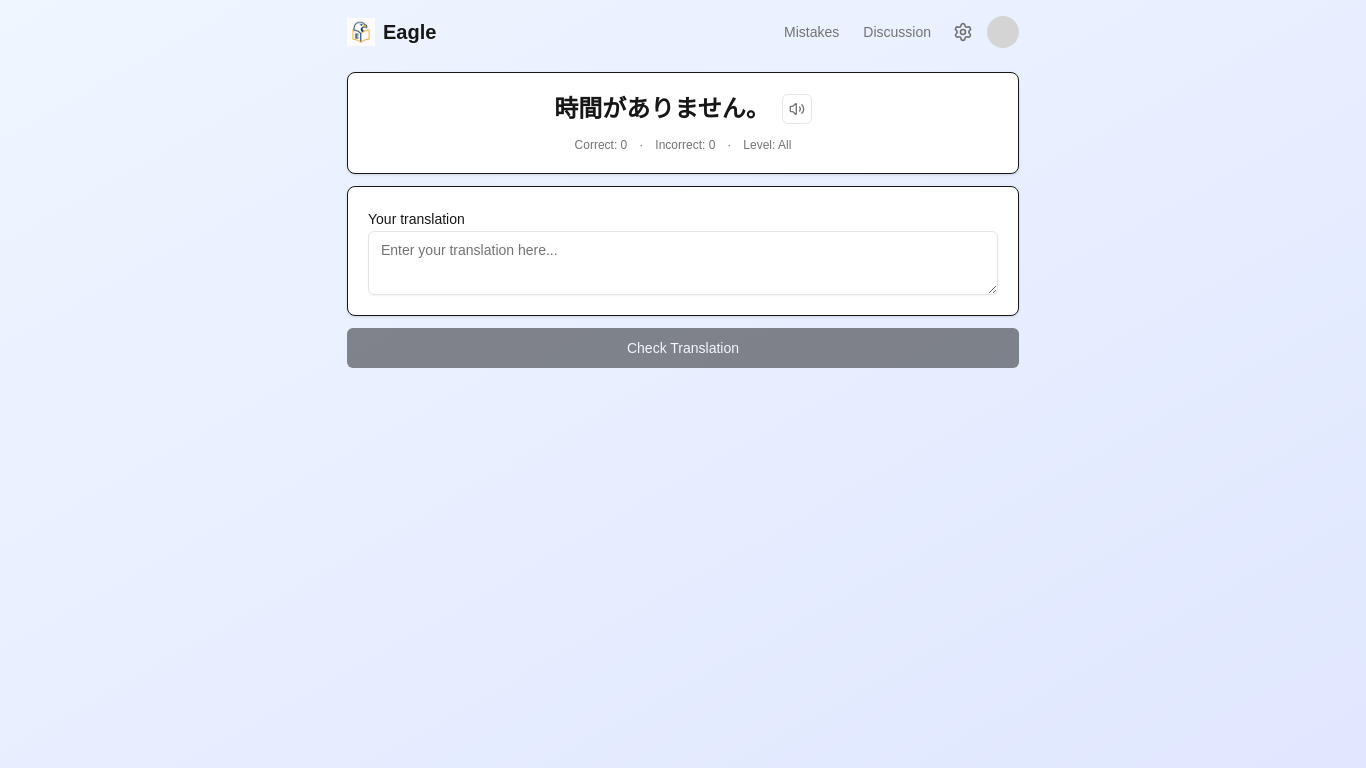
Scenario: settings › narrows the filter, refetches, persists and updates the summary
The width and height of the screenshot is (1366, 768).
Expected: the text "時間がありません。" is shown, [554, 93, 770, 125]
Step 1. Click the button named "Settings" → (963, 32), box [947, 16, 979, 48]
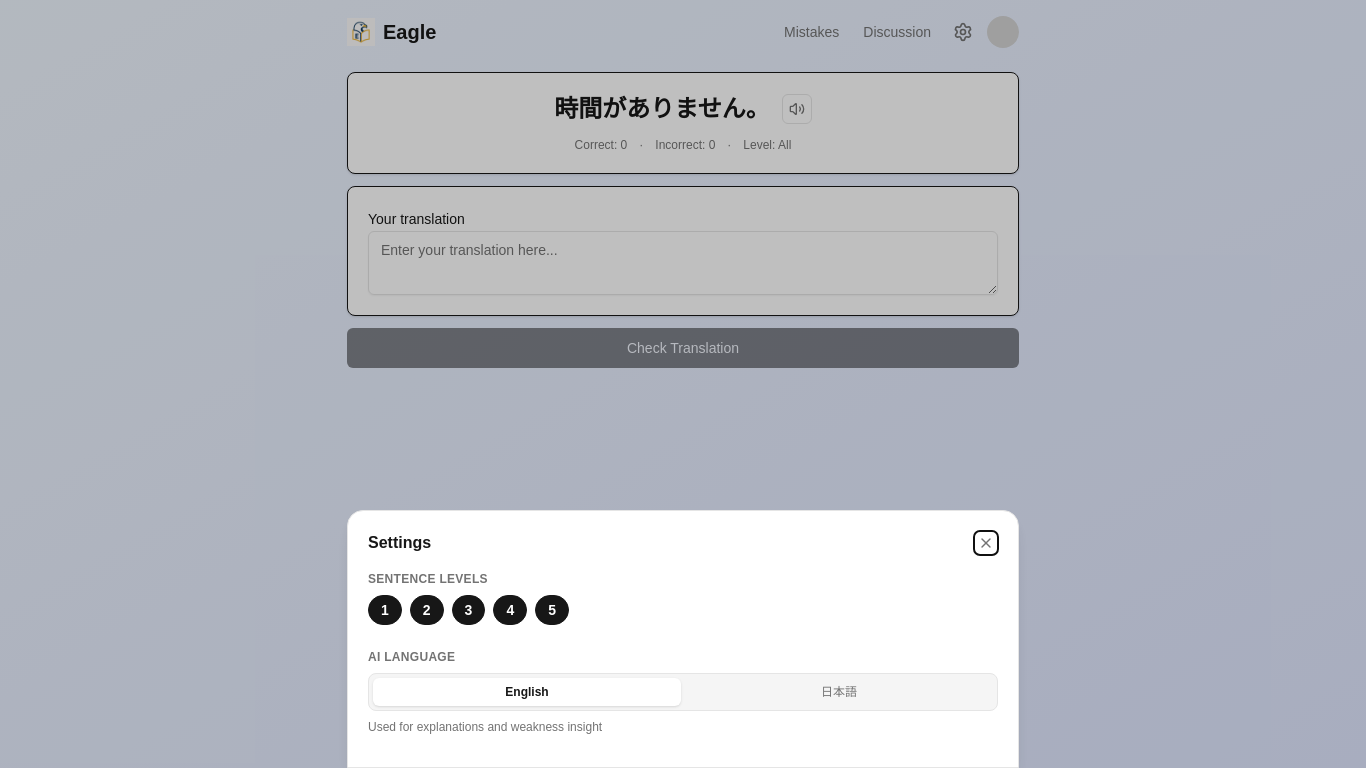
Step 2. Click the checkbox named "Level 5" → (552, 610), box [535, 595, 569, 625]
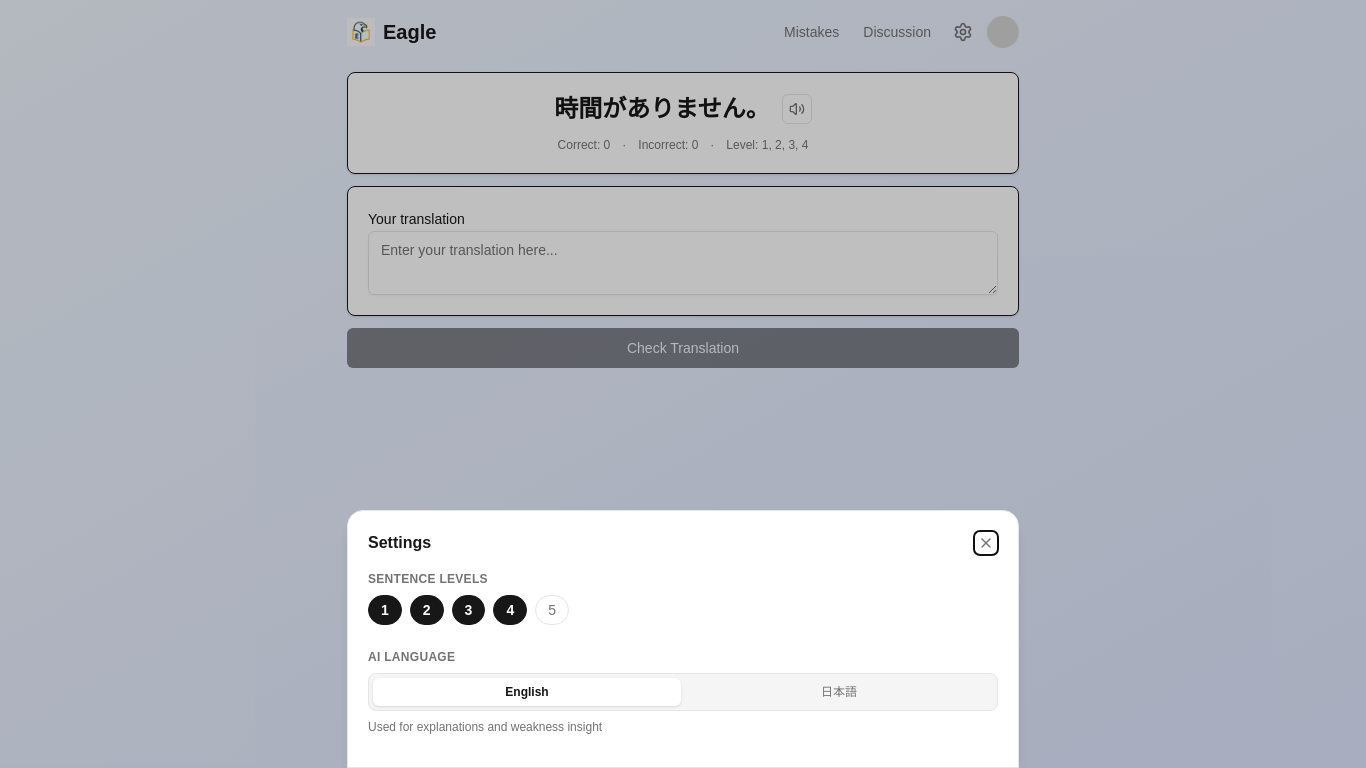
Expected: the text "Level: 1, 2, 3, 4" is shown, [726, 137, 808, 153]
